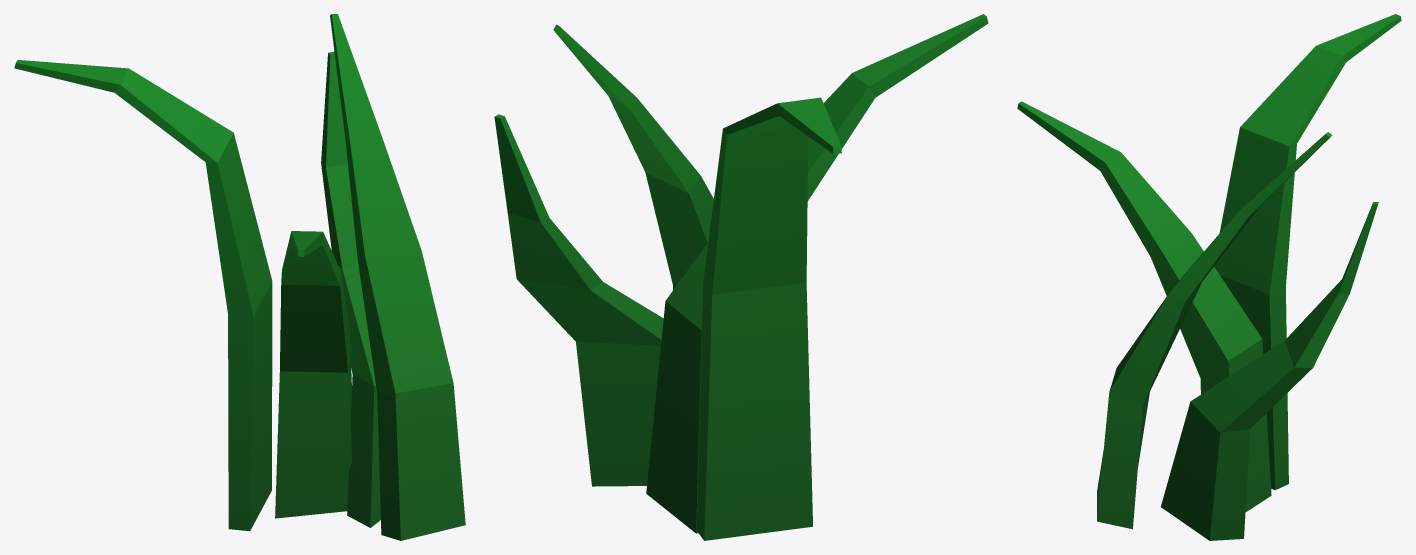
File: grass_7.fbx
The picture shows the model from 3 angles, left to right: view 1: azimuth 30°, elevation 25°; view 2: azimuth 150°, elevation 25°; view 3: azimuth 270°, elevation 25°; orthographic projection. The views are drawn at different scales.
Visible parts, largest first — view 1: grass 7; view 2: grass 7; view 3: grass 7.
Boxes of the visible parts, x1=… form: grass 7: x1=14, y1=14, x2=465, y2=540; grass 7: x1=494, y1=14, x2=988, y2=540; grass 7: x1=1017, y1=14, x2=1401, y2=540.
Size of the model in its own units: 0.6645 by 0.597 by 0.7718.
